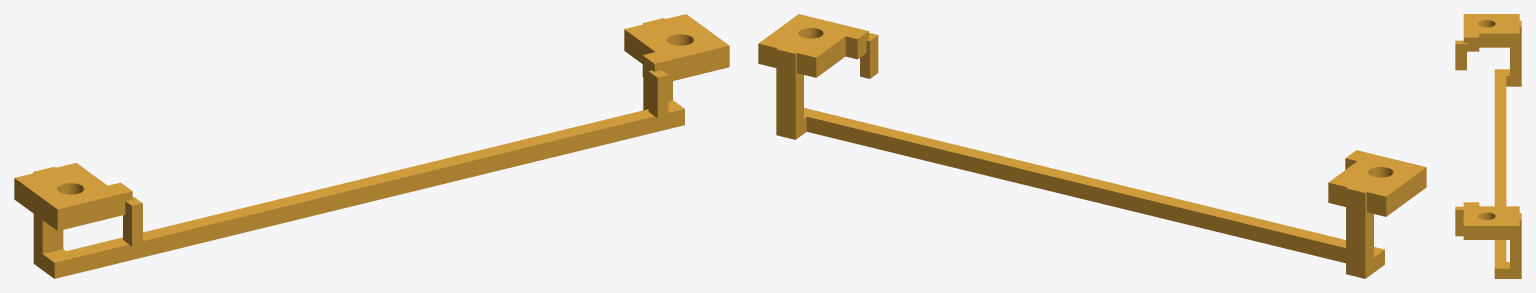
Rendered from jetson_gate.glb.
3 renders of one model, left to right at view 1: azimuth 30°, elevation 25°; view 2: azimuth 150°, elevation 25°; view 3: azimuth 270°, elevation 25°, orthographic. The views are drawn at different scales.
Parts seen in each view (by area): view 1: jetson_gate; view 2: jetson_gate; view 3: jetson_gate.
Part boxes in pixels (box(x1,y1,x2,y2)): jetson_gate: box(14, 14, 729, 278); jetson_gate: box(758, 14, 1426, 278); jetson_gate: box(1455, 14, 1521, 278).
Size of the model in its own units: 0.13 by 0.017 by 0.0172.
